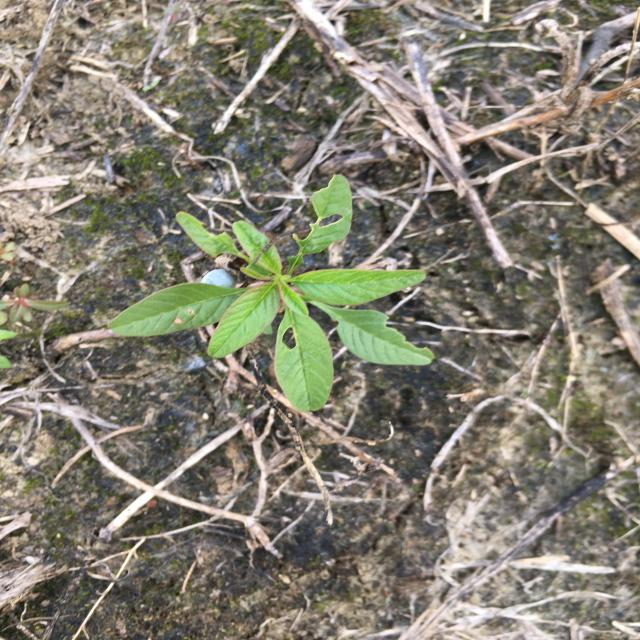Waterhemp: (104, 172, 437, 416)
